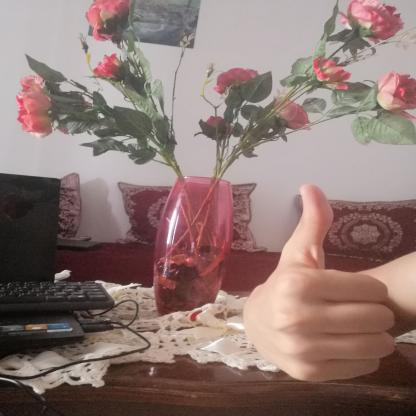ALIF: (234, 168, 405, 396)
